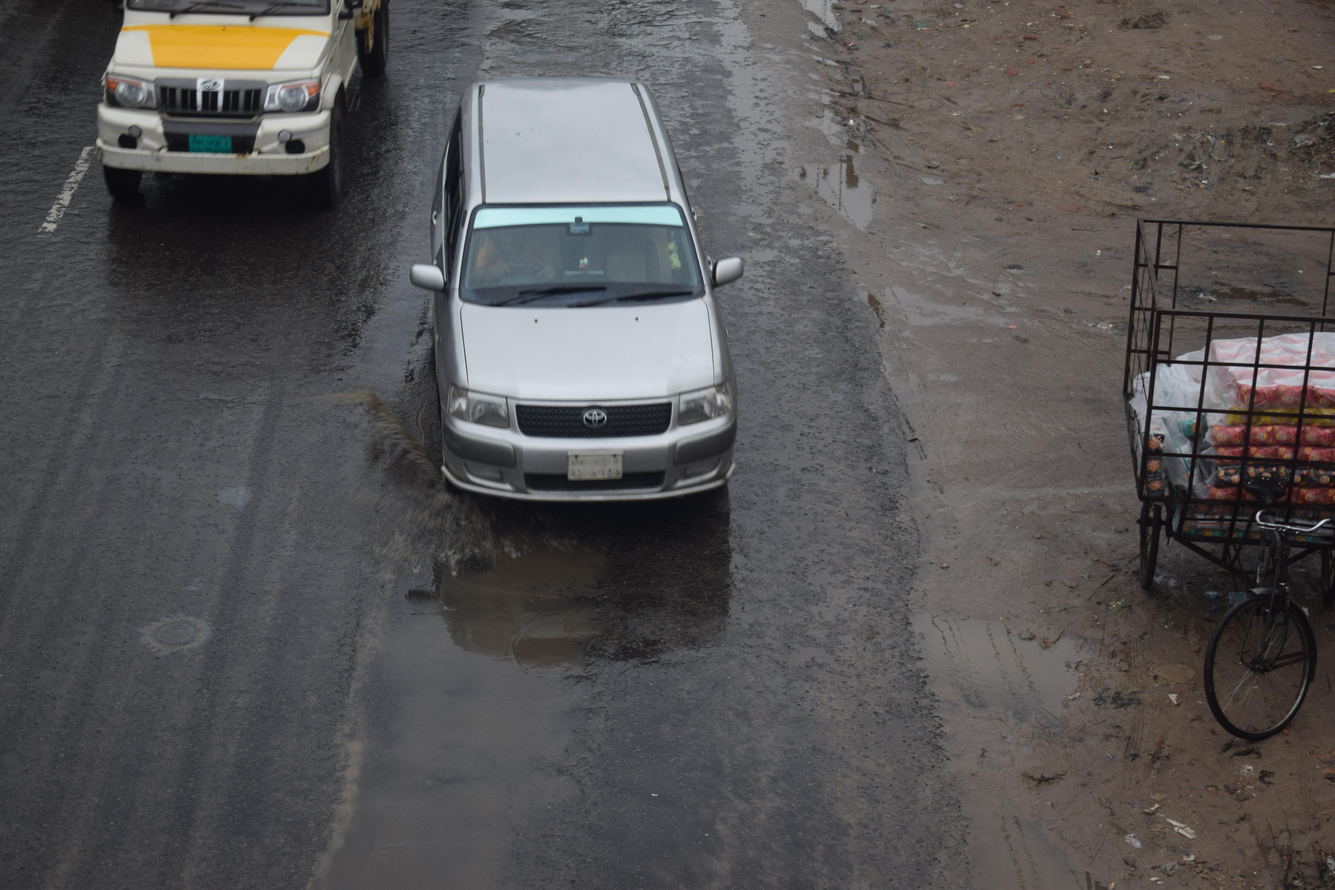Car: (370, 35, 800, 556)
Truck: (56, 0, 416, 222)
